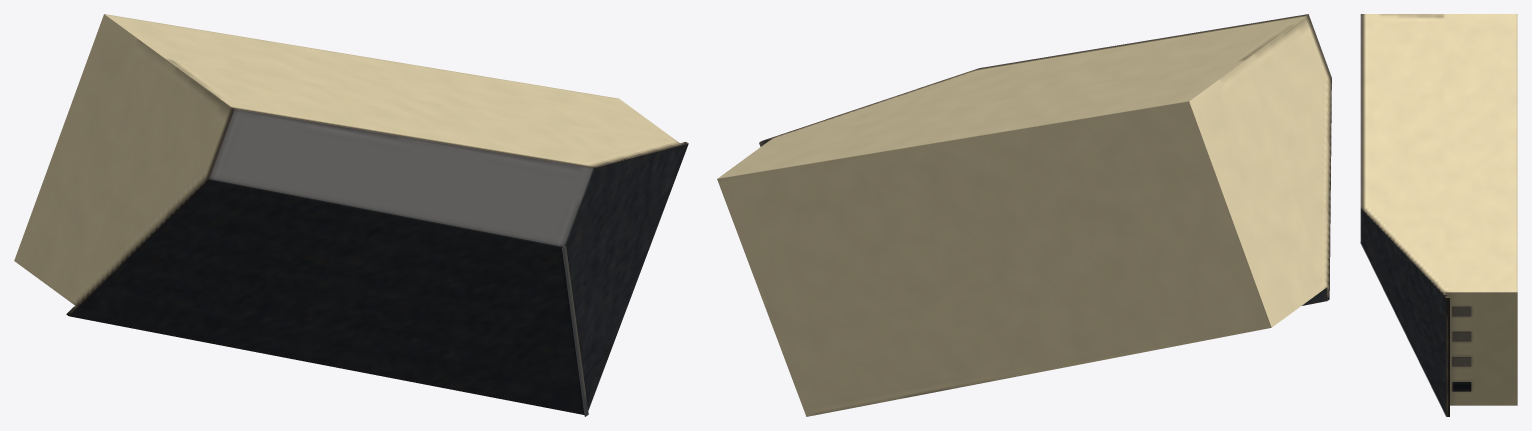
The model's file is house_b0104.obj.
3 renders of one model, left to right at view 1: azimuth 30°, elevation 25°; view 2: azimuth 150°, elevation 25°; view 3: azimuth 270°, elevation 25°, orthographic. The views are drawn at different scales.
Visible parts, largest first — view 1: house_b0104; view 2: house_b0104; view 3: house_b0104.
Part boxes in pixels (left/top/right/bottom): house_b0104: left=14, top=14, right=688, bottom=416; house_b0104: left=717, top=14, right=1331, bottom=416; house_b0104: left=1360, top=14, right=1517, bottom=416.
Size of the model in its own units: 32.61 by 23.24 by 11.91.
Materials: 1 (1 with a texture image).
